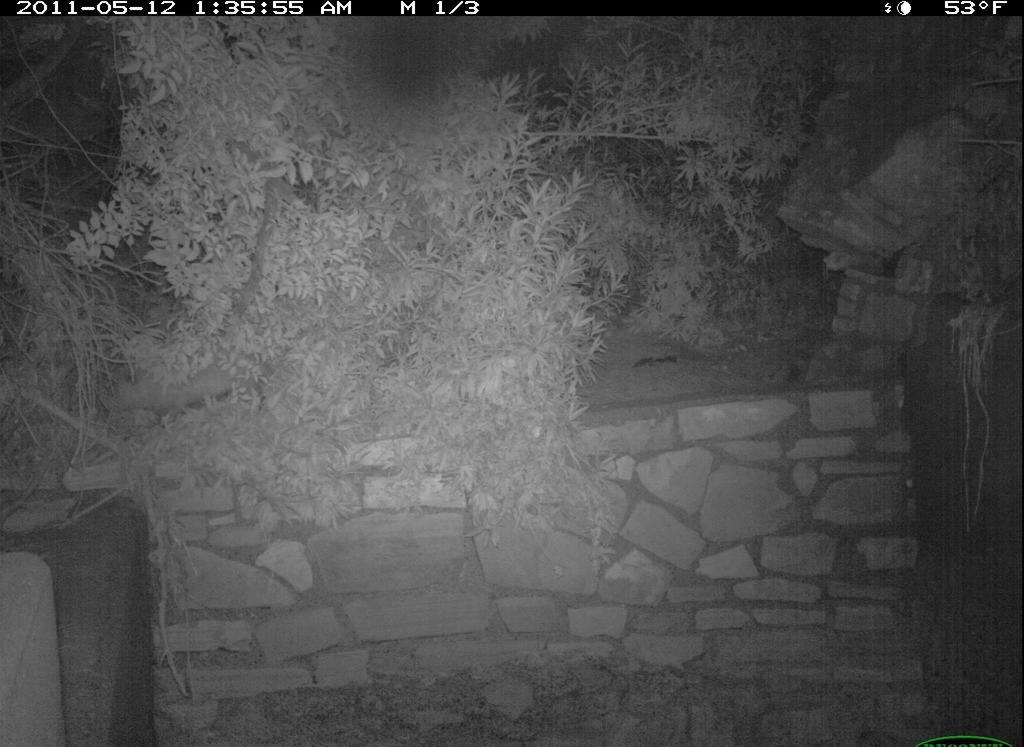opossum: (100, 351, 257, 424)
